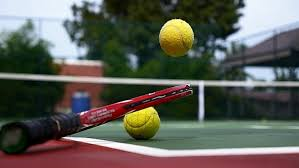tennis_ball: (158, 17, 194, 58), (124, 103, 160, 141)
